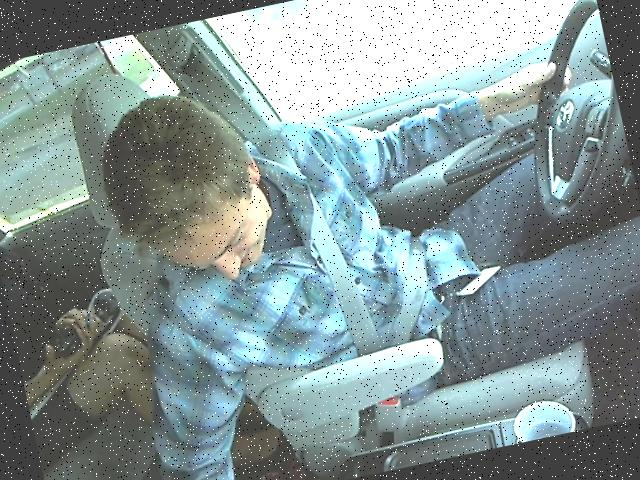c5 - Reaching Behind: (65, 0, 639, 455)
